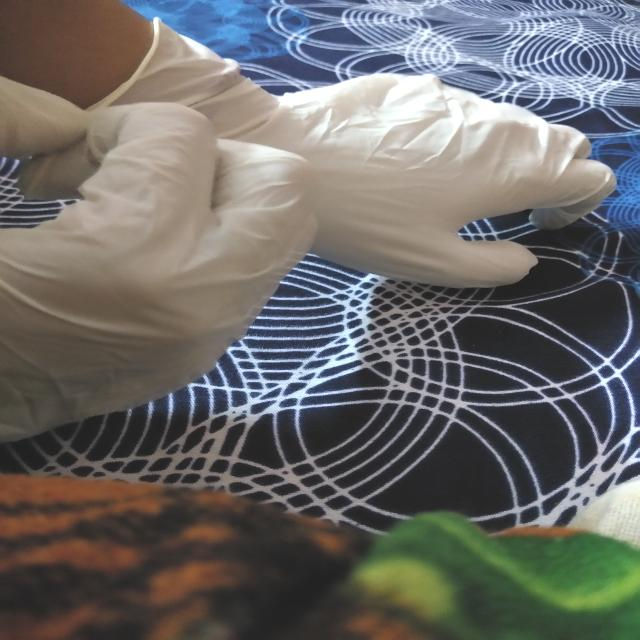glove: (24, 14, 625, 292), (0, 71, 325, 453)
